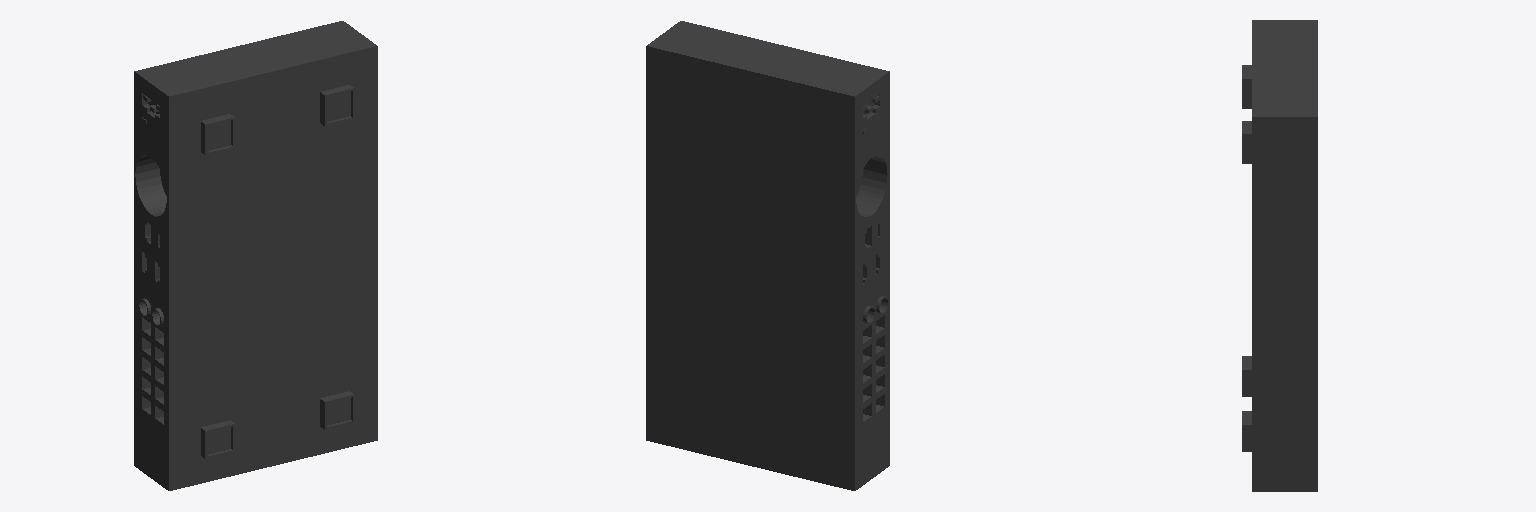
robot.urdf — nvr_generic:
<?xml version="1.0"?>
<robot name="nvr_generic">

  <link name="nvr_generic_link">
  
    <visual>
      <origin xyz="0 0 0" rpy="0 0 0"/>
      <geometry>
        <mesh filename="package://Generic_NVR/meshes/NVR_Generic.stl" scale="0.001 0.001 0.001"/>
      </geometry>
      <material name="dark_gray">
        <color rgba="0.3 0.3 0.3 1.0"/>
      </material>
    </visual>

    <collision>
      <origin xyz="0 0 0" rpy="0 0 0"/>
      <geometry>
        <mesh filename="package://Generic_NVR/meshes/NVR_Generic.stl" scale="0.001 0.001 0.001"/>
      </geometry>
    </collision>

    <inertial>
      <mass value="1.5"/>
      <origin xyz="0 0 0" rpy="0 0 0"/>
      <inertia
        ixx="0.001" ixy="0.0" ixz="0.0"
        iyy="0.001" iyz="0.0"
        izz="0.001"/>
    </inertial>
    
  </link>

</robot>

--- Render facts (derived) ---
The picture shows the robot from 3 angles, left to right: view 1: azimuth 30°, elevation 25°; view 2: azimuth 150°, elevation 25°; view 3: azimuth 270°, elevation 25°; orthographic projection.
Robot: nvr_generic — 1 links, 0 joints (none); root link nvr_generic_link; default pose: all joints at 0.
Links seen in each view (by area): view 1: nvr_generic_link; view 2: nvr_generic_link; view 3: nvr_generic_link.
Boxes of the visible links, bbox=[...] form: nvr_generic_link: bbox=[134, 21, 377, 490]; nvr_generic_link: bbox=[646, 21, 889, 490]; nvr_generic_link: bbox=[1242, 20, 1317, 491].
Bounding box of the posed robot: 0.0141 × 0.0046 × 0.0251 m (x, y, z).
Meshes: 1 distinct files referenced, 1 mesh visuals loaded (1 binary STL).